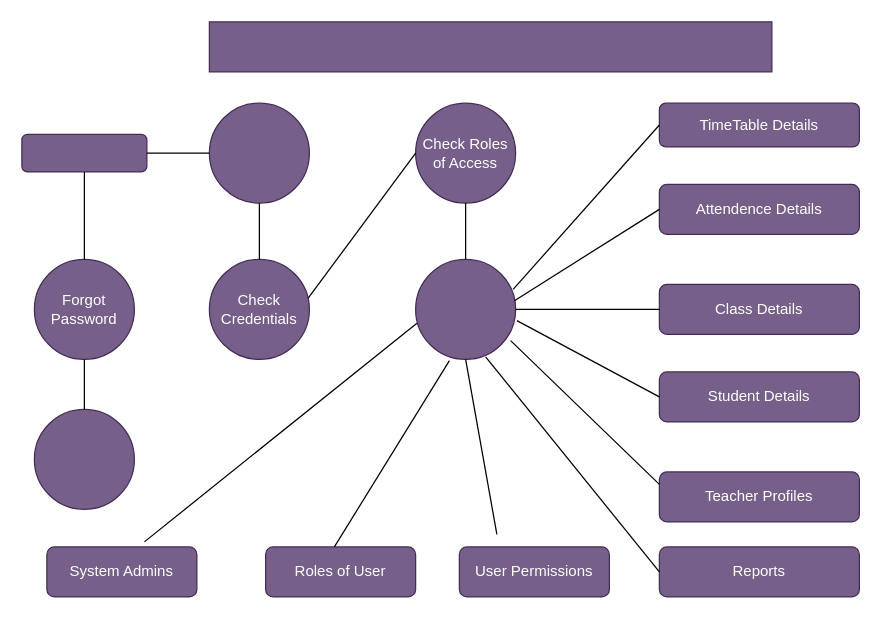
Some shapes in this 881 by 619 pixel diagram are drawn without their labels. The shapes that lost their labels are listed below. From the top down, each one's box as (x1, y1, x2, y2) in pixels, then its label:
(208, 21, 772, 72): Student Information System
(21, 133, 147, 172): Admin
(208, 102, 309, 203): Login to Systems
(414, 258, 516, 359): Manage Module
(33, 408, 134, 509): Send EMAIL To User
